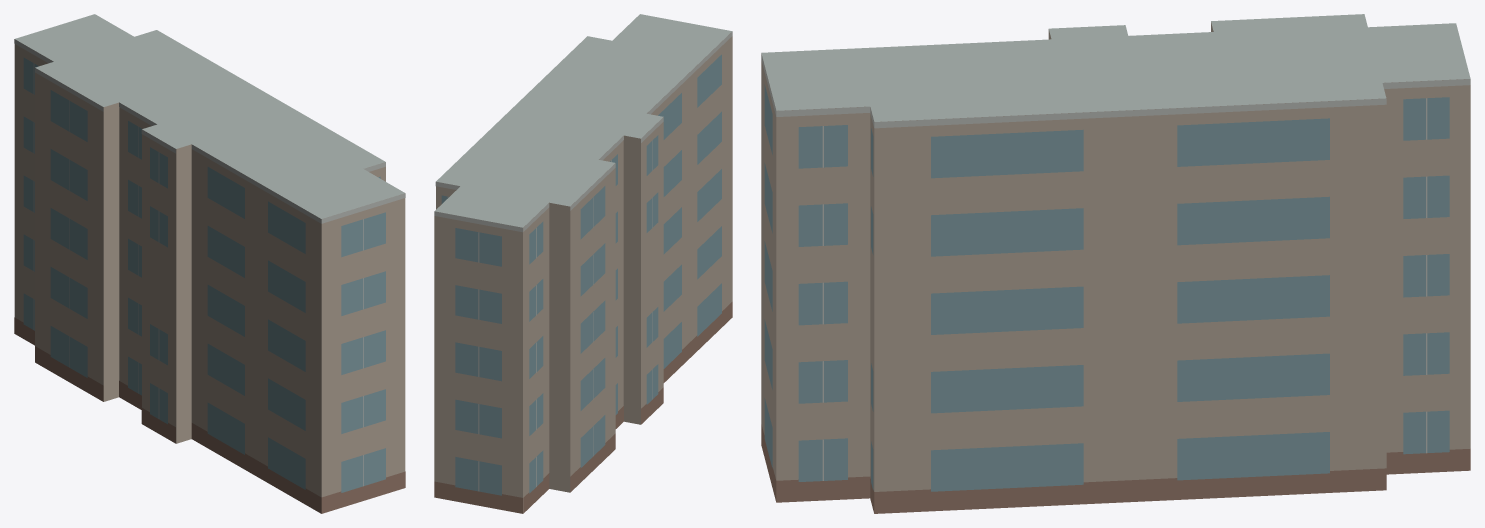
The model's file is survey-upis-32614582.glb.
3 views of the same model, side by side, from view 1: azimuth 30°, elevation 25°; view 2: azimuth 150°, elevation 25°; view 3: azimuth 270°, elevation 25° (orthographic). The views are drawn at different scales.
Visible parts, largest first — view 1: survey-upis-32614582.tmp; view 2: survey-upis-32614582.tmp; view 3: survey-upis-32614582.tmp.
Boxes of the visible parts, box(x1,y1,x2,y2) form: survey-upis-32614582.tmp: box(14, 14, 405, 513); survey-upis-32614582.tmp: box(434, 14, 732, 513); survey-upis-32614582.tmp: box(761, 14, 1470, 513).
Bounding box in the file's own units: 8.97 × 15.15 × 24.87.
